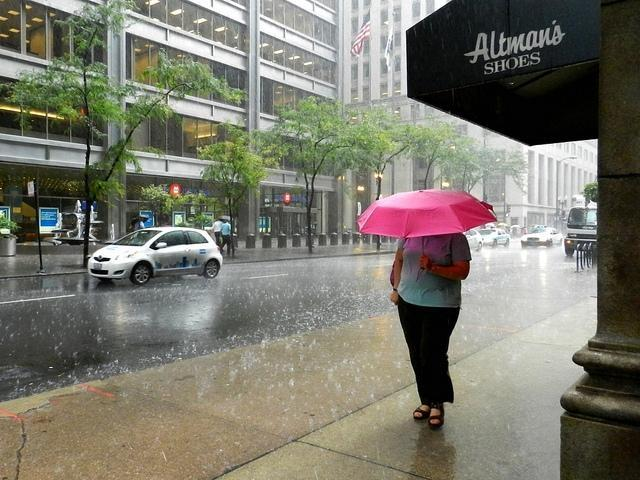car: (88, 227, 223, 284), (520, 226, 564, 248), (478, 228, 510, 248), (463, 230, 484, 252)
truck: (564, 206, 598, 256)
